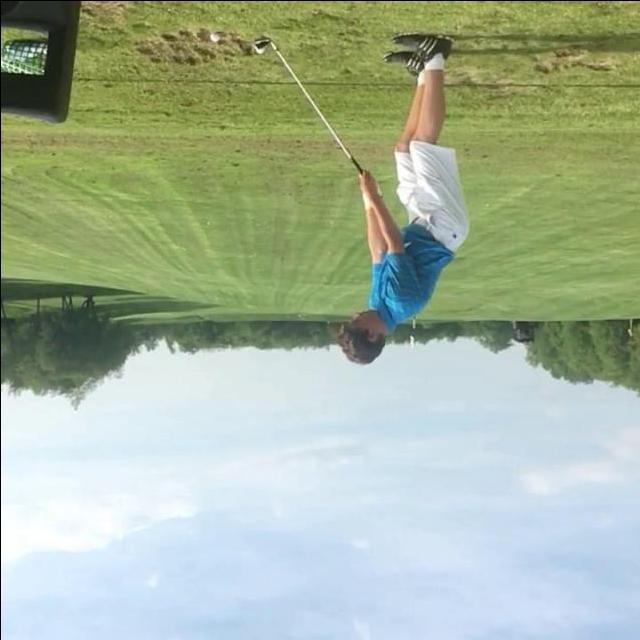golf ball: (209, 32, 219, 40), (255, 47, 263, 52)
golf club-handle: (253, 37, 363, 174)
golf club-head: (253, 38, 269, 49)
